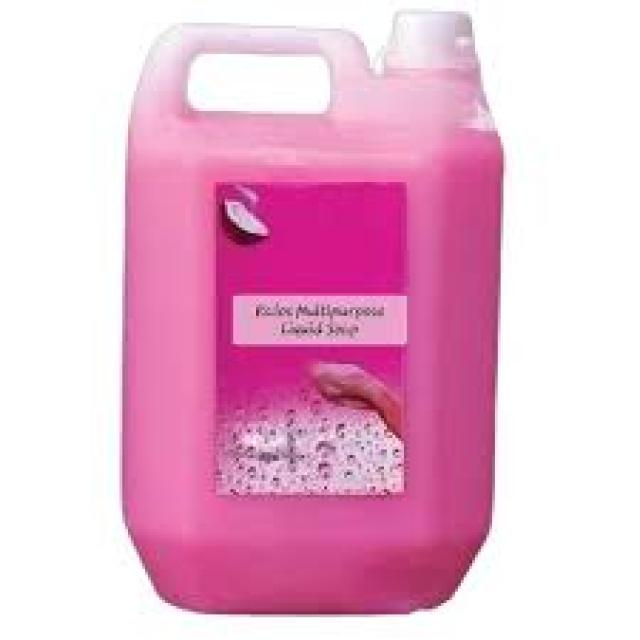liquid soap: (126, 8, 512, 628)
